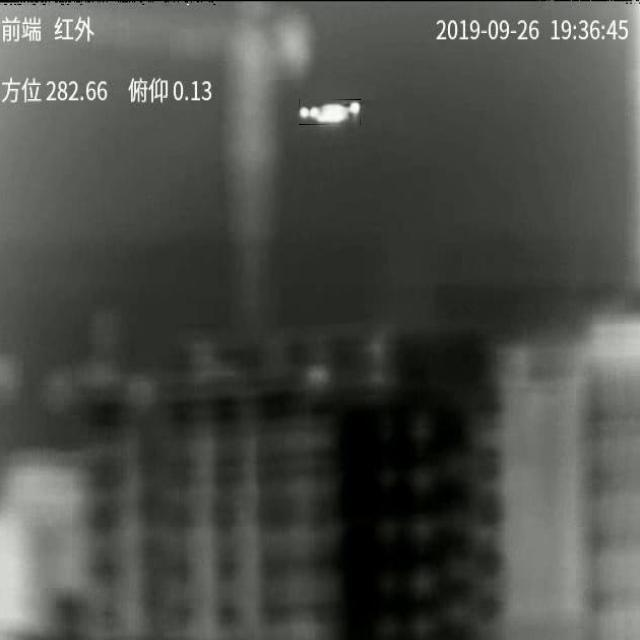drone: (299, 101, 361, 125)
